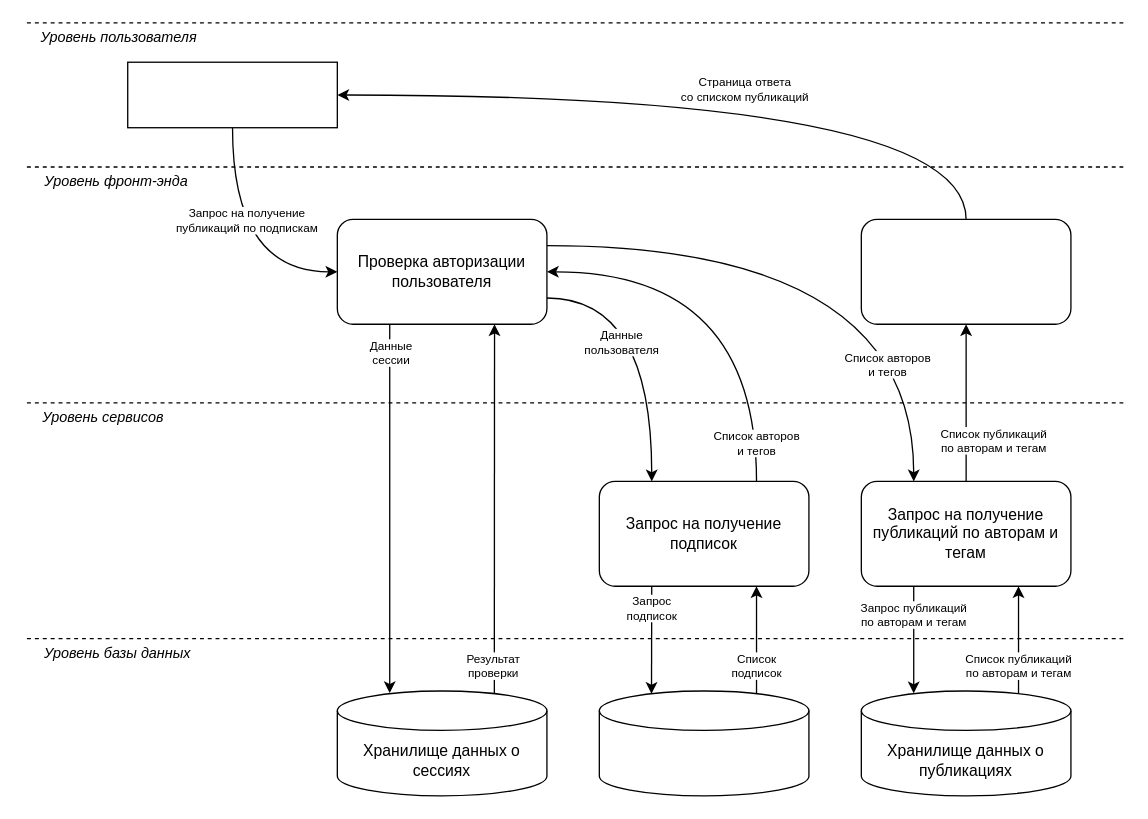
Some shapes in this 1148 by 819 pixel diagram are drawn without their labels. The shapes that lost their labels are listed below. From the top down, each one's centre as x and y in pixels, then its label:
point 231,94: Пользователь
point 965,271: Формирование страницы ответа
point 703,743: Хранилище данных о подписках
